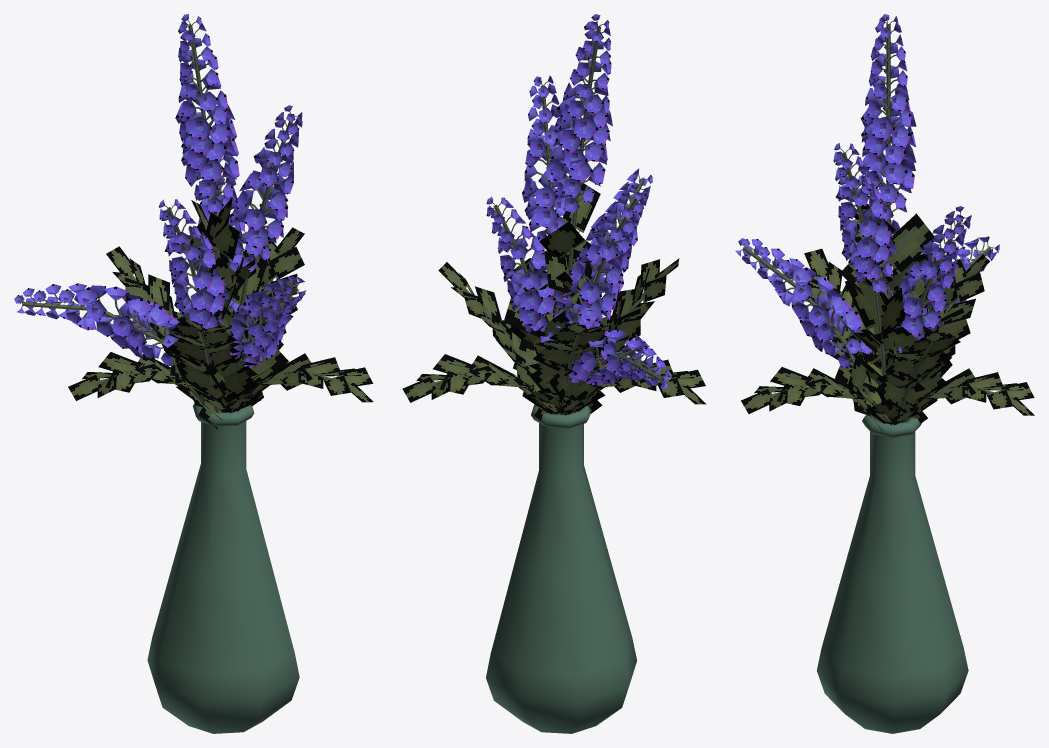
The model's file is a_com_house_a01_plant01_green.gltf.
3 views of the same model, side by side, from view 1: azimuth 30°, elevation 25°; view 2: azimuth 150°, elevation 25°; view 3: azimuth 270°, elevation 25° (orthographic). The views are drawn at different scales.
Visible parts, largest first — view 1: um_a_com_house_a01_plant01_model_a_com_house_a01_plant01_mod (×2); view 2: um_a_com_house_a01_plant01_model_a_com_house_a01_plant01_mod (×2); view 3: um_a_com_house_a01_plant01_model_a_com_house_a01_plant01_mod (×2).
Part boxes in pixels (bbox=[...]): um_a_com_house_a01_plant01_model_a_com_house_a01_plant01_mod (×2): bbox=[14, 14, 373, 733]; um_a_com_house_a01_plant01_model_a_com_house_a01_plant01_mod (×2): bbox=[402, 14, 706, 733]; um_a_com_house_a01_plant01_model_a_com_house_a01_plant01_mod (×2): bbox=[735, 14, 1034, 733].
Size of the model in its own units: 0.3597 by 0.9504 by 0.3767.
Materials: 2 (2 with a texture image).
